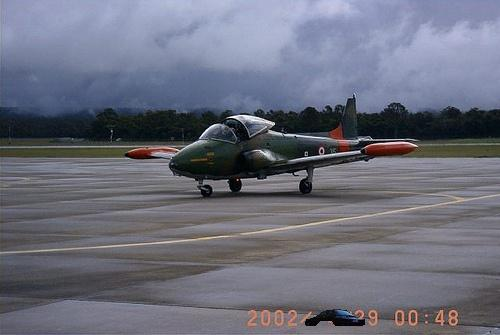tampered: (306, 310, 365, 326)
